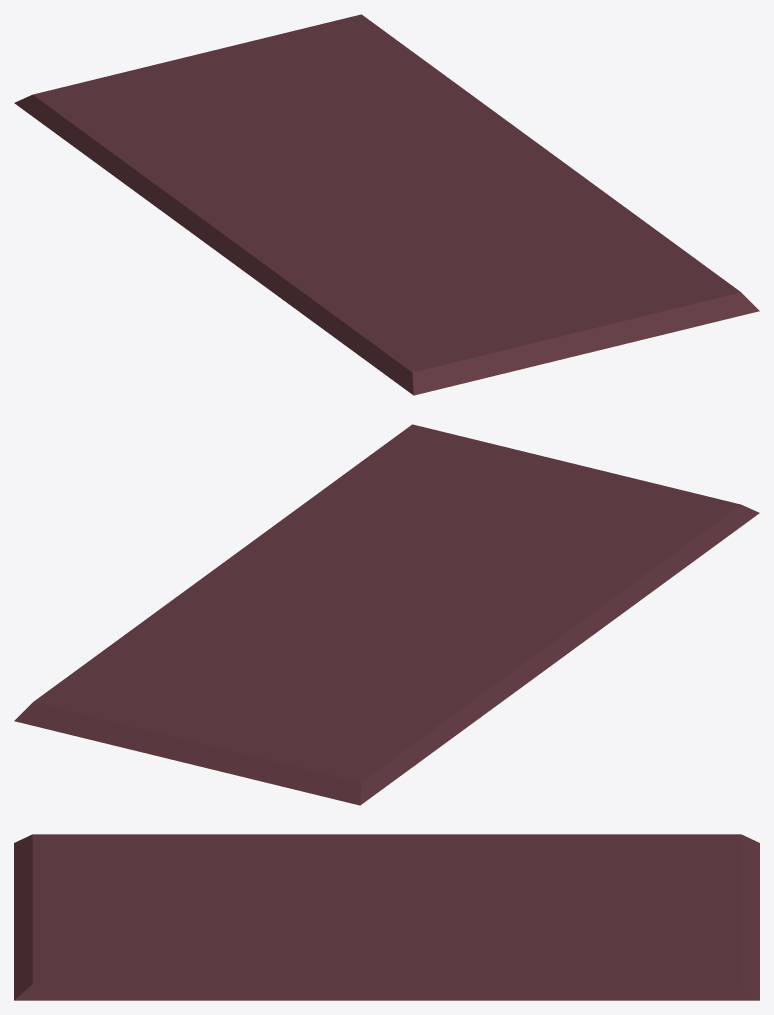
File: rug-small-stripes.fbx
3 renders of one model, top to bottom at view 1: azimuth 30°, elevation 25°; view 2: azimuth 150°, elevation 25°; view 3: azimuth 270°, elevation 25°, orthographic. The views are drawn at different scales.
Parts seen in each view (by area): view 1: rug-small-stripes; view 2: rug-small-stripes; view 3: rug-small-stripes.
Part boxes in pixels (x1=…): rug-small-stripes: x1=14, y1=14, x2=759, y2=395; rug-small-stripes: x1=14, y1=424, x2=759, y2=805; rug-small-stripes: x1=14, y1=834, x2=759, y2=1000.
Bounding box in the file's own units: 0.8 × 0.03 × 1.6.
